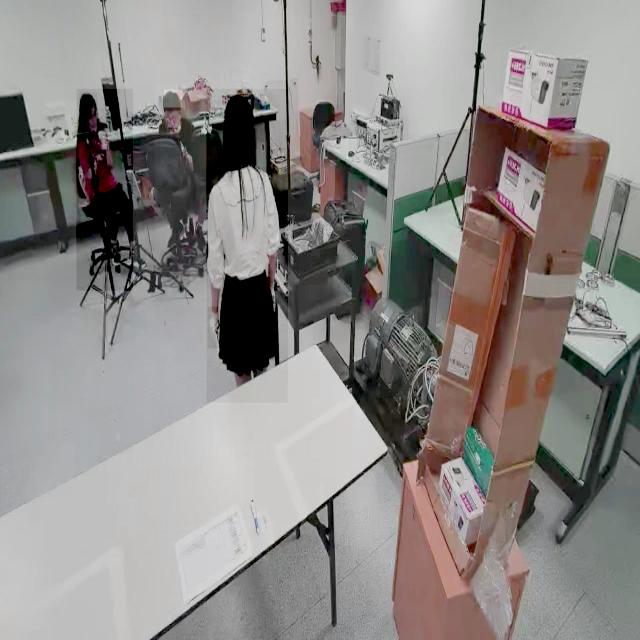face_nomask: (165, 111, 181, 129), (87, 111, 99, 133)
hand_glove: (207, 307, 222, 349)
hand_noglove: (99, 134, 110, 150), (96, 150, 106, 164)
head_nohelmet: (225, 94, 254, 121), (164, 90, 182, 108), (79, 92, 97, 109)
person: (206, 89, 288, 403), (76, 89, 133, 291), (154, 84, 206, 282)
